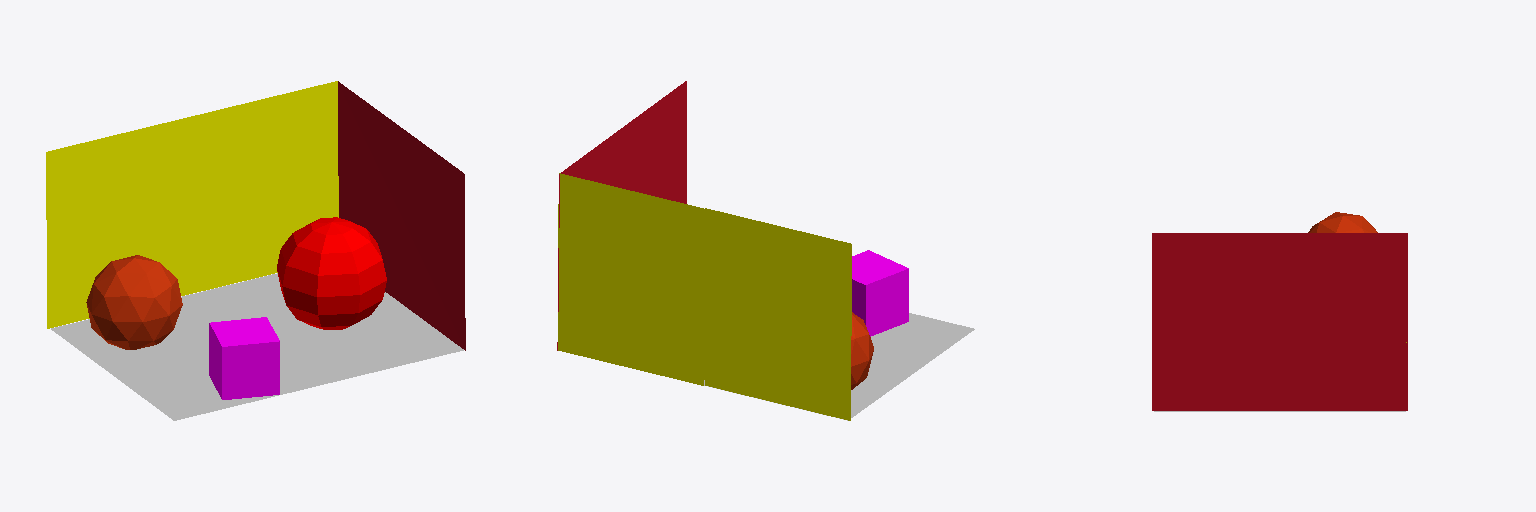
The model's file is FireScene.obj.
The picture shows the model from 3 angles: view 1: azimuth 30°, elevation 25°; view 2: azimuth 150°, elevation 25°; view 3: azimuth 270°, elevation 25°; orthographic projection.
Visible parts, largest first — view 1: MirrorWall_back_wall, back_wall_back_wall.001, floor, left_wall, sphere_spheres, Icosphere, short_box; view 2: MirrorWall_back_wall, back_wall_back_wall.001, left_wall, floor, short_box, Icosphere; view 3: left_wall, Icosphere.
Boxes of the visible parts, x1,y1,x2,y2 form: MirrorWall_back_wall: [194, 81, 338, 292]; back_wall_back_wall.001: [46, 116, 193, 328]; floor: [51, 273, 463, 420]; left_wall: [338, 81, 465, 350]; sphere_spheres: [277, 217, 386, 329]; Icosphere: [86, 255, 182, 349]; short_box: [209, 317, 279, 399]; MirrorWall_back_wall: [558, 173, 705, 385]; back_wall_back_wall.001: [705, 208, 851, 420]; left_wall: [557, 81, 686, 350]; floor: [704, 313, 974, 420]; short_box: [852, 250, 908, 336]; Icosphere: [851, 312, 873, 389]; left_wall: [1152, 233, 1407, 410]; Icosphere: [1308, 212, 1377, 232].
Bounding box in the file's own units: 9.53 × 5.81 × 7.17.